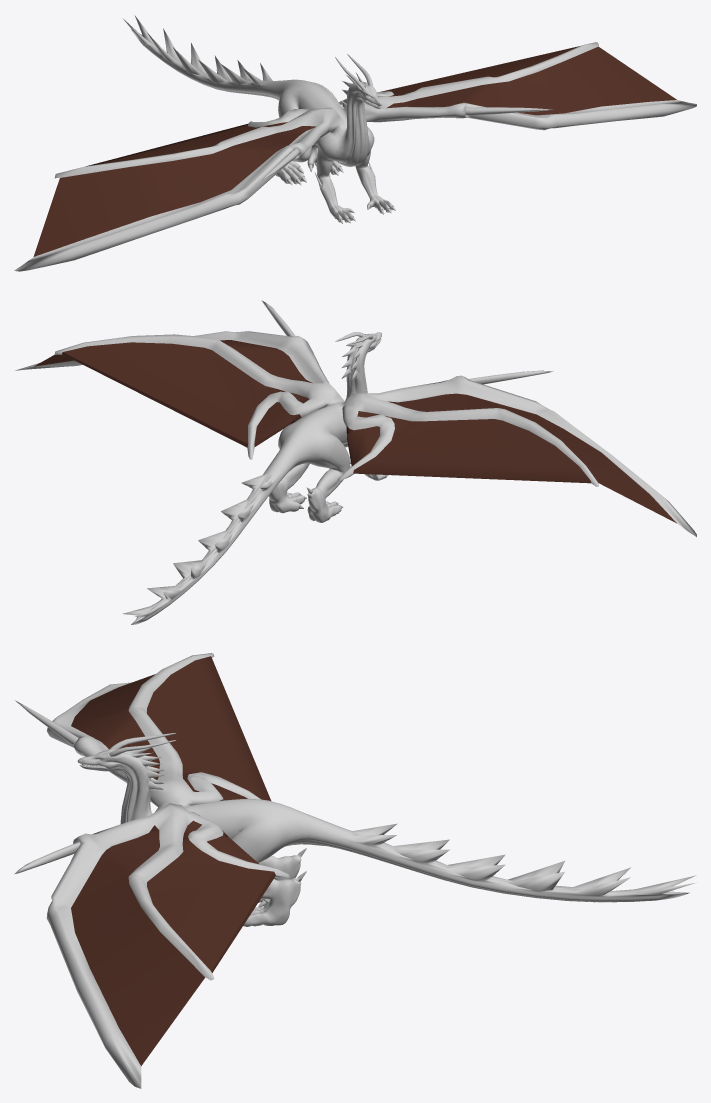
Rendered from dragon.obj.
3 views of the same model, one above another, from view 1: azimuth 30°, elevation 25°; view 2: azimuth 150°, elevation 25°; view 3: azimuth 270°, elevation 25° (orthographic). The views are drawn at different scales.
Visible parts, largest first — view 1: Cube_Cube.004; view 2: Cube_Cube.004; view 3: Cube_Cube.004.
Boxes of the visible parts, x1,y1,x2,y2 form: Cube_Cube.004: (14,15,696,271); Cube_Cube.004: (15,300,696,624); Cube_Cube.004: (14,653,696,1088).
Size of the model in its own units: 14.41 by 2.89 by 10.21.
